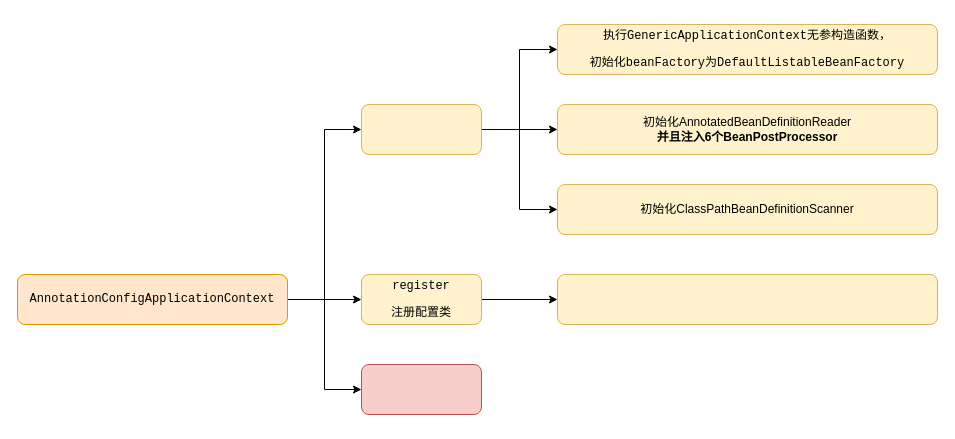
Some shapes in this 955 by 439 pixel diagram are drawn without their labels. Here are the shapes that lost their labels. From the top down, the box of each, then its label:
(360, 104, 482, 154): this 初始化组件
(556, 274, 938, 324): 将配置类转为BeanDefinition并注册到BeanDefinitionRegistry
(360, 364, 482, 414): refresh 刷新容器
